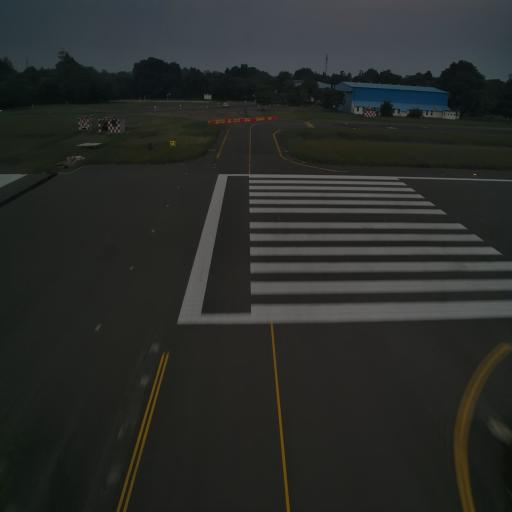on: (96, 322, 102, 334)
